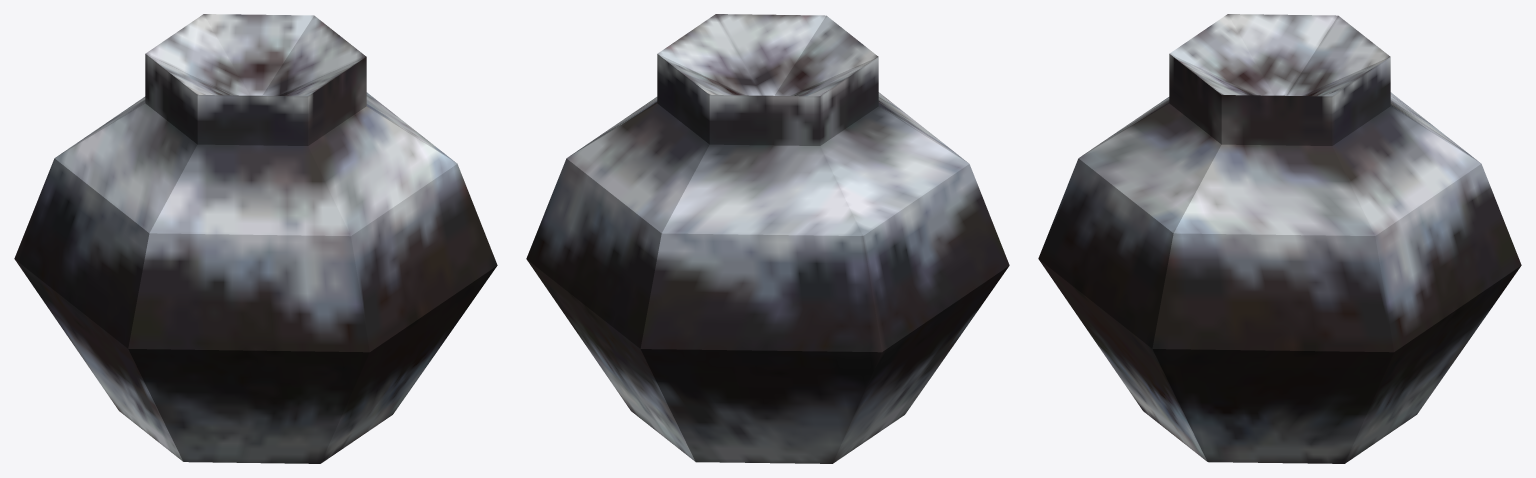
Rendered from Item_10.FBX.
3 renders of one model, left to right at view 1: azimuth 30°, elevation 25°; view 2: azimuth 150°, elevation 25°; view 3: azimuth 270°, elevation 25°, orthographic.
Visible parts, largest first — view 1: Item_10; view 2: Item_10; view 3: Item_10.
Part boxes in pixels (x1,y1,x2,y2): Item_10: (14,14,497,463); Item_10: (526,14,1009,463); Item_10: (1038,14,1521,463).
Size of the model in its own units: 40.69 by 37.67 by 46.13.
